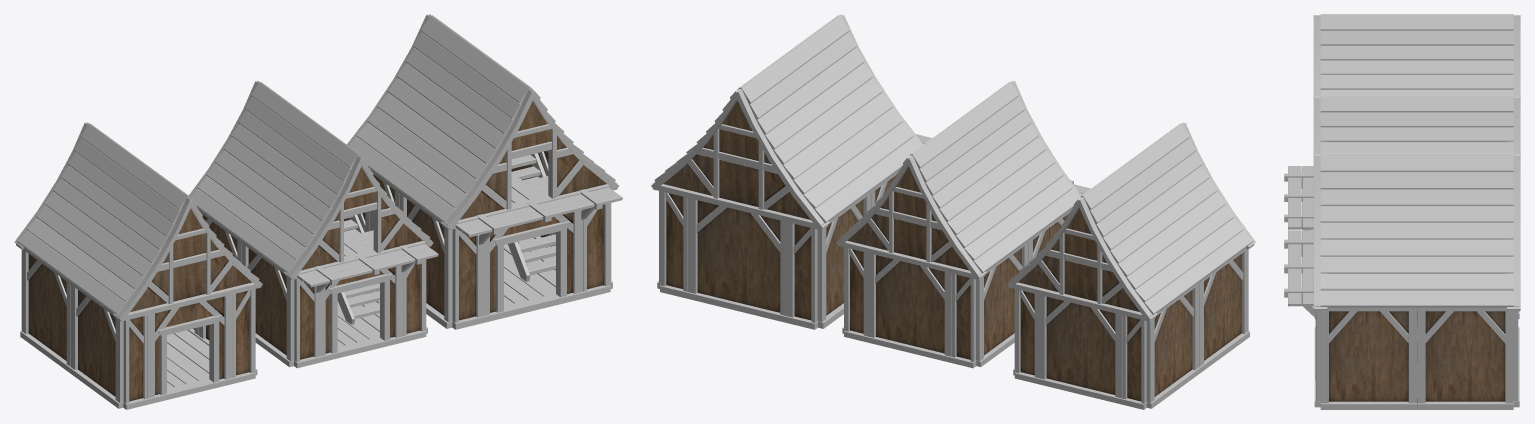
File: Barns_1A1.fbx
The picture shows the model from 3 angles, left to right: view 1: azimuth 30°, elevation 25°; view 2: azimuth 150°, elevation 25°; view 3: azimuth 270°, elevation 25°; orthographic projection. The views are drawn at different scales.
Parts seen in each view (by area): view 1: Barn_1A3, Barn_1A1, Barn_1A2; view 2: Barn_1A3, Barn_1A1, Barn_1A2; view 3: Barn_1A3, Barn_1A1, Barn_1A2.
Part boxes in pixels (<box>): Barn_1A3: <box>347,14,622,329</box>; Barn_1A1: <box>14,122,262,409</box>; Barn_1A2: <box>189,81,438,368</box>; Barn_1A3: <box>651,14,931,329</box>; Barn_1A1: <box>1007,122,1255,409</box>; Barn_1A2: <box>837,80,1090,368</box>; Barn_1A3: <box>1284,153,1520,409</box>; Barn_1A1: <box>1313,14,1520,96</box>; Barn_1A2: <box>1284,95,1520,319</box>.
Bounding box in the file's own units: 2342 × 992 × 979.
